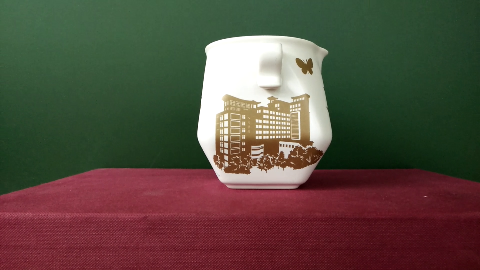butterfly: (286, 45, 323, 81)
lenwen: (223, 106, 306, 164)
